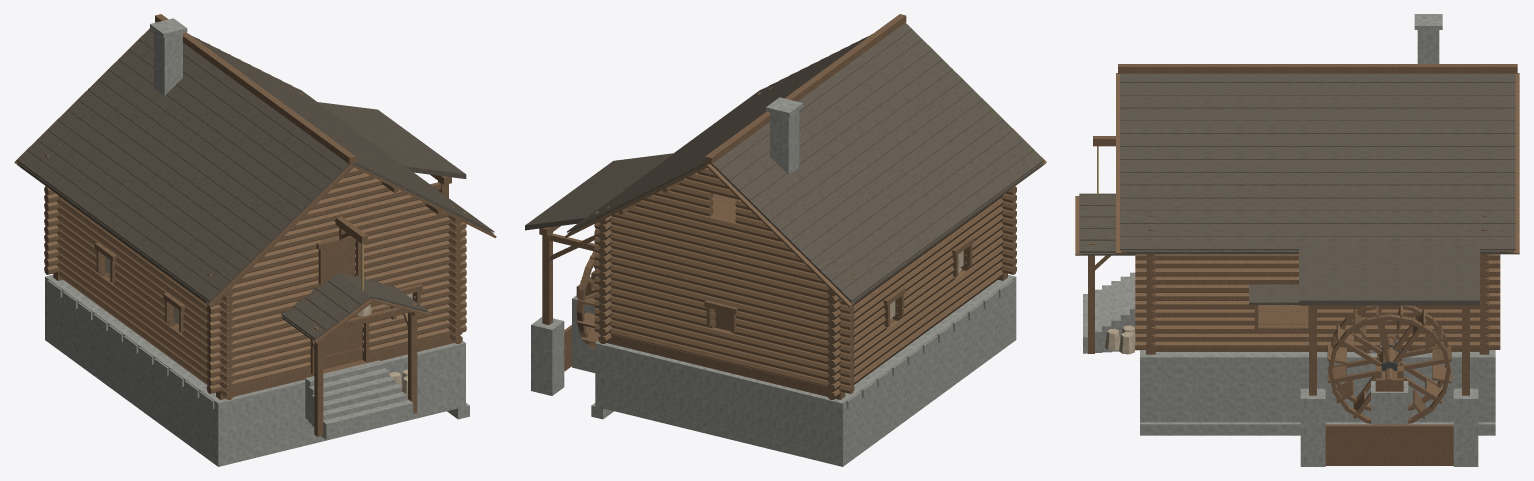
3 renders of one model, left to right at view 1: azimuth 30°, elevation 25°; view 2: azimuth 150°, elevation 25°; view 3: azimuth 270°, elevation 25°, orthographic. The views are drawn at different scales.
Visible parts, largest first — view 1: M01_roof, M01_foundation, M01_gable, M01_shell, M01_frame, M01_porch, M01_chimney, M01_entry_leaf0, M01_door; view 2: M01_roof, M01_gable, M01_foundation, M01_shell, M01_frame, M01_wheel_support_footing, M01_chimney, M01_wheel_support_post, WaterMill_wheel, M01_wheel_support_pier, M01_loft; view 3: M01_roof, M01_foundation, M01_shell, WaterMill_wheel, M01_frame, M01_race, M01_wheel_support_footing, M01_gable, M01_wheel_support_post, M01_floor, M01_wheel_support_pier, M01_chimney (+3 smaller).
Part boxes in pixels (x1,y1,x2,y2): M01_roof: (16, 28, 494, 341); M01_foundation: (45, 274, 469, 466); M01_gable: (44, 87, 466, 393); M01_shell: (53, 195, 462, 399); M01_frame: (14, 14, 496, 374); M01_porch: (310, 298, 430, 436); M01_chimney: (150, 18, 187, 95); M01_entry_leaf0: (323, 315, 362, 369); M01_door: (324, 241, 355, 281); M01_roof: (525, 23, 1044, 305); M01_gable: (594, 82, 1016, 393); M01_foundation: (591, 274, 1016, 466); M01_shell: (598, 195, 1007, 399); M01_frame: (564, 14, 1046, 332); M01_wheel_support_footing: (531, 317, 564, 395); M01_chimney: (766, 97, 803, 174); M01_wheel_support_post: (539, 226, 595, 324); WaterMill_wheel: (576, 251, 600, 349); M01_wheel_support_pier: (572, 295, 595, 372); M01_loft: (712, 193, 736, 221); M01_roof: (1079, 73, 1515, 305); M01_foundation: (1083, 272, 1495, 435); M01_shell: (1135, 254, 1500, 354); WaterMill_wheel: (1327, 305, 1451, 423); M01_frame: (1093, 64, 1519, 331); M01_race: (1325, 424, 1453, 465); M01_wheel_support_footing: (1300, 388, 1478, 466); M01_gable: (1146, 201, 1489, 351); M01_wheel_support_post: (1309, 305, 1469, 395); M01_floor: (1155, 305, 1479, 351); M01_wheel_support_pier: (1371, 381, 1408, 424); M01_chimney: (1414, 14, 1442, 63).
Bounding box in the file's own units: 13.07 × 11.85 × 14.24.
6 materials, 5 textured.
